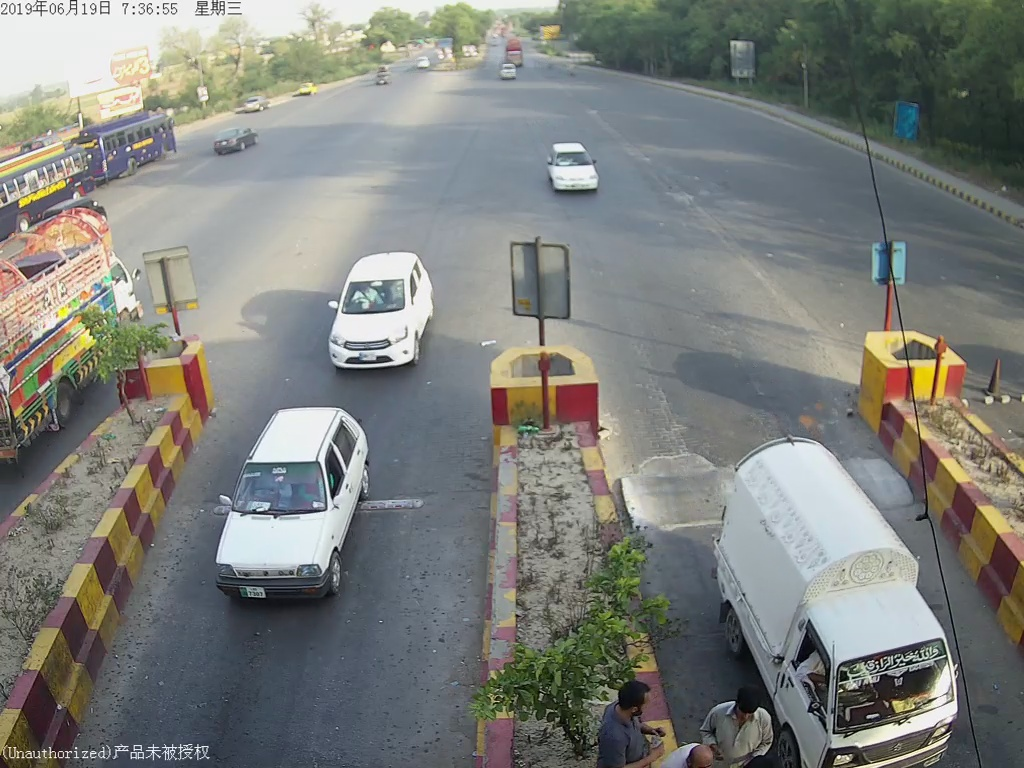Cat-1: (722, 432, 967, 767), (211, 405, 375, 604), (324, 251, 439, 372), (539, 133, 603, 196)
